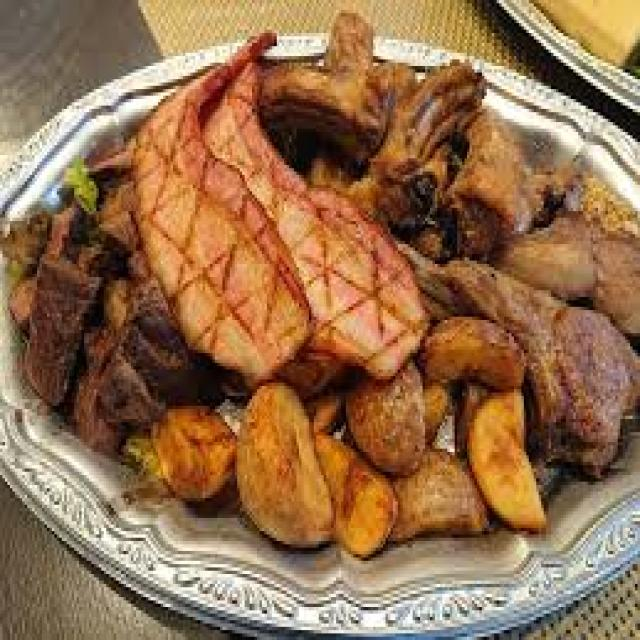food_waste: (2, 10, 638, 554)
